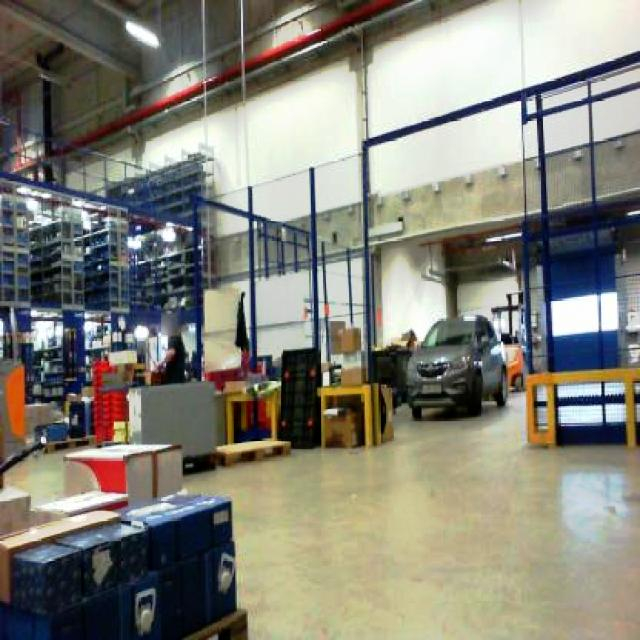ground: (0, 383, 638, 638)
pallet: (0, 438, 249, 638), (0, 147, 224, 329), (0, 508, 122, 605), (523, 366, 638, 448), (0, 606, 249, 638), (62, 442, 183, 506), (214, 378, 291, 465), (315, 382, 394, 448), (277, 346, 320, 448), (0, 355, 26, 491), (174, 606, 249, 638), (212, 437, 291, 466)
